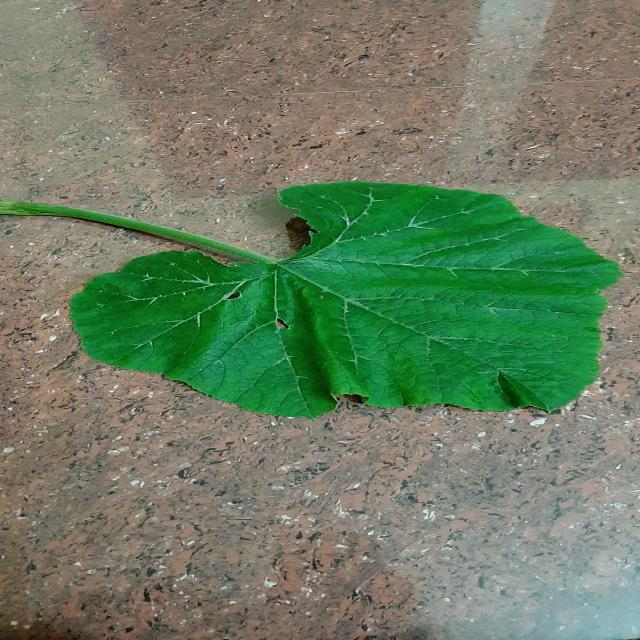pumpkin: (3, 182, 618, 418)
